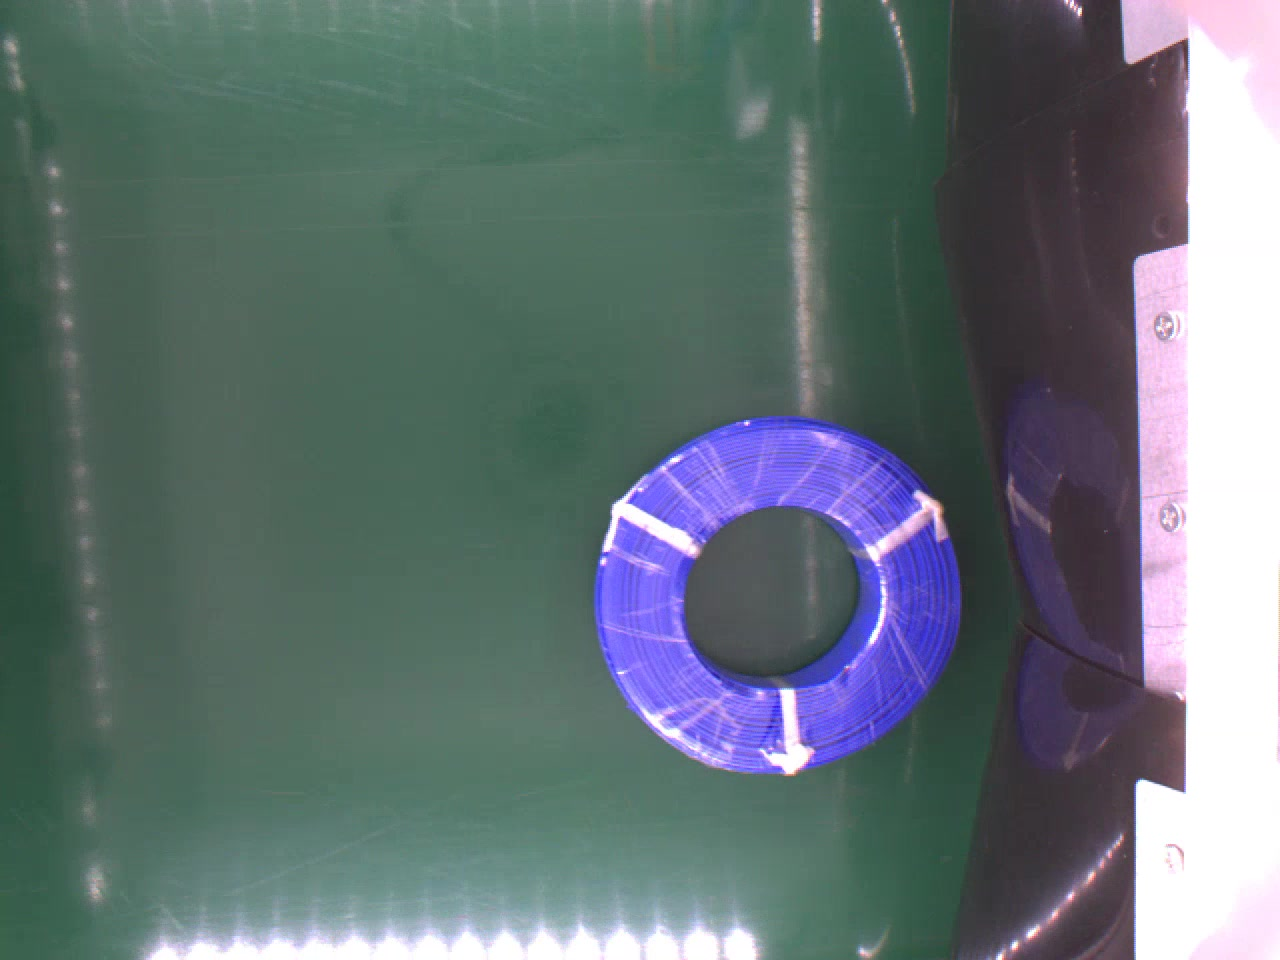blue: (588, 412, 959, 779)
